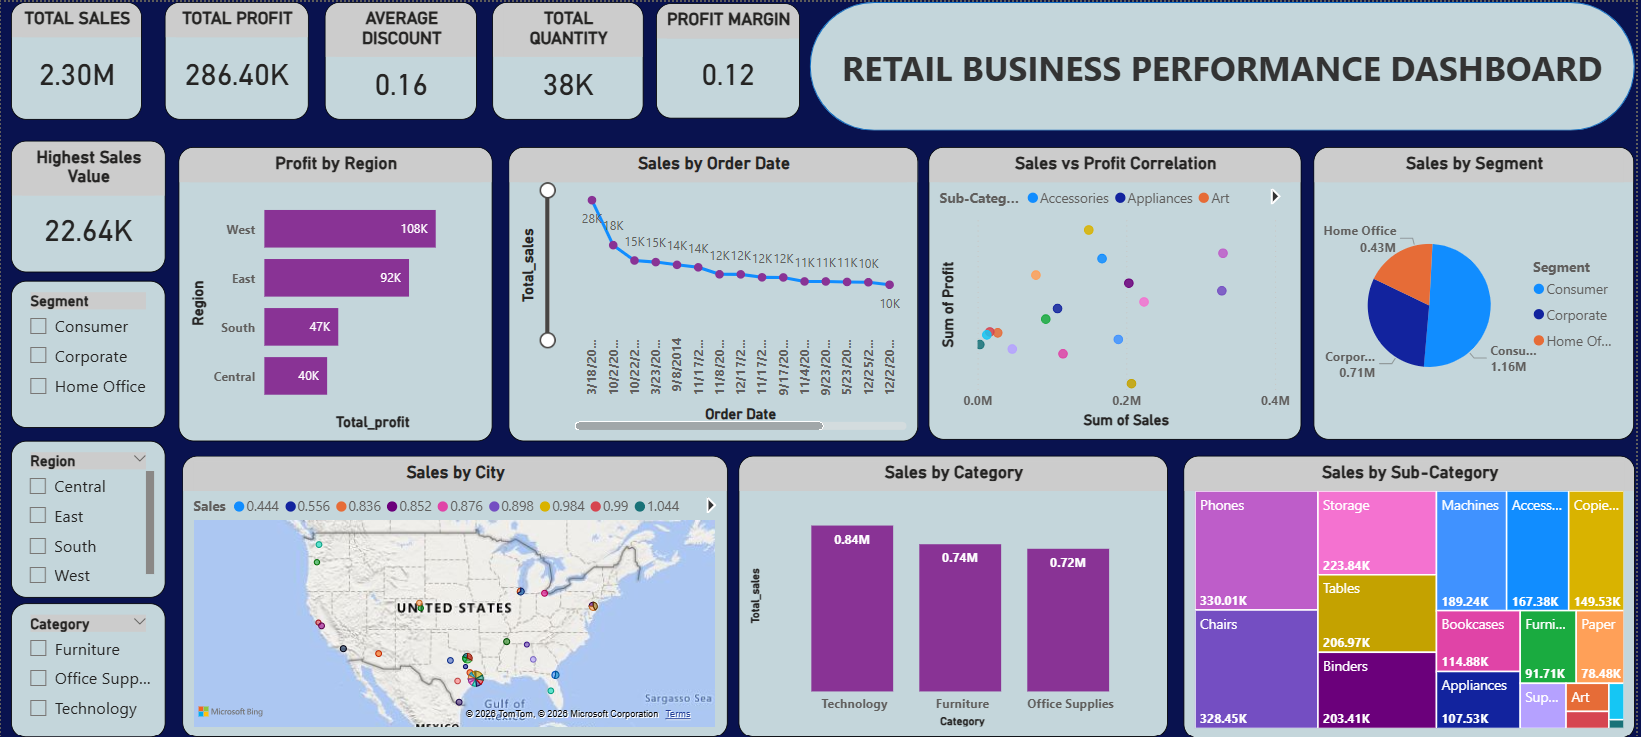

This screenshot's page, from the dashboard's own definition file:
{"tool":"powerbi","page":{"name":"Page 1","canvas":[1600,720],"ordinal":0},"visuals":[{"type":"card","title":"TOTAL SALES","fields":{"Values":["Superstore.Total_sales"]},"box":[9.8,0,128.4,114.9],"z":0},{"type":"card","title":"TOTAL PROFIT","fields":{"Values":["Superstore.Total_profit"]},"box":[160.2,0,140.6,114.9],"z":1000},{"type":"card","title":"PROFIT MARGIN","fields":{"Values":["Superstore.Profit Margin"]},"box":[640.8,1.2,140.6,112.5],"z":2000},{"type":"card","title":"AVERAGE DISCOUNT","fields":{"Values":["Superstore.Average Discount"]},"box":[316.7,0,149.2,114.9],"z":3000},{"type":"card","title":"TOTAL QUANTITY","fields":{"Values":["Superstore.Total Quantity"]},"box":[480.6,0,148,114.9],"z":4000},{"type":"clusteredColumnChart","title":"Sales by Category","fields":{"Category":["Superstore.Category"],"Y":["Superstore.Total_sales"]},"box":[720.9,443.3,420.1,276.2],"z":5000},{"type":"clusteredBarChart","title":"Profit by Region","fields":{"Y":["Superstore.Total_profit"],"Category":["Superstore.Region"]},"box":[173.5,142.4,307,287.7],"z":6000},{"type":"lineChart","title":"Sales by Order Date","fields":{"Category":["Superstore.Order Date"],"Y":["Superstore.Total_sales"]},"box":[496.8,142.4,400.4,287.7],"z":7000},{"type":"pieChart","title":"Sales by Segment","fields":{"Category":["Superstore.Segment"],"Y":["Superstore.Total_sales"]},"box":[1283.4,142.4,314,286.3],"z":8000},{"type":"treemap","title":"Sales by Sub-Category","fields":{"Group":["Superstore.Sub-Category"],"Values":["Superstore.Total_sales"]},"box":[1157,443.3,441.9,277.6],"z":9000},{"type":"scatterChart","title":"Sales vs Profit Correlation","fields":{"X":["Sum(Superstore.Sales)"],"Y":["Sum(Superstore.Profit)"],"Category":["Superstore.Sub-Category"],"Series":["Superstore.Sub-Category"]},"box":[907,142.4,364.8,286.3],"z":10000},{"type":"slicer","fields":{"Values":["Superstore.Category"]},"box":[9.6,588.7,150.9,131.7],"z":11000},{"type":"slicer","fields":{"Values":["Superstore.Region"]},"box":[9.6,429.5,150.9,153.7],"z":12000},{"type":"slicer","fields":{"Values":["Superstore.Segment"]},"box":[9.6,273.1,150.9,144.1],"z":13000},{"type":"card","title":"Highest Sales Value","fields":{"Values":["Superstore.Lowest Profit Value"]},"box":[9.6,135.8,150.9,129],"z":14000},{"type":"shape","box":[791.2,0,807.1,126],"z":15000},{"type":"map","title":" Sales by City ","fields":{"Category":["Superstore.City"],"Size":["Sum(Superstore.Sales)"],"Series":["Superstore.Sales"]},"box":[177.3,443.3,533.4,276.2],"z":15001}]}

Visuals, with their boxes in screenshot pixels (x1, y1, x2, y2), scaled from the page's 1600x720 canvas onto the 1641x737 screenshot:
"TOTAL SALES" card: box=[10, 0, 142, 118]
"TOTAL PROFIT" card: box=[164, 0, 309, 118]
"PROFIT MARGIN" card: box=[657, 1, 801, 116]
"AVERAGE DISCOUNT" card: box=[325, 0, 478, 118]
"TOTAL QUANTITY" card: box=[493, 0, 645, 118]
"Sales by Category" clusteredColumnChart: box=[739, 454, 1170, 736]
"Profit by Region" clusteredBarChart: box=[178, 146, 493, 440]
"Sales by Order Date" lineChart: box=[510, 146, 920, 440]
"Sales by Segment" pieChart: box=[1316, 146, 1638, 439]
"Sales by Sub-Category" treemap: box=[1187, 454, 1640, 736]
"Sales vs Profit Correlation" scatterChart: box=[930, 146, 1304, 439]
slicer - Superstore.Category: box=[10, 603, 165, 736]
slicer - Superstore.Region: box=[10, 440, 165, 597]
slicer - Superstore.Segment: box=[10, 280, 165, 427]
"Highest Sales Value" card: box=[10, 139, 165, 271]
shape: box=[811, 0, 1639, 129]
" Sales by City " map: box=[182, 454, 729, 736]
